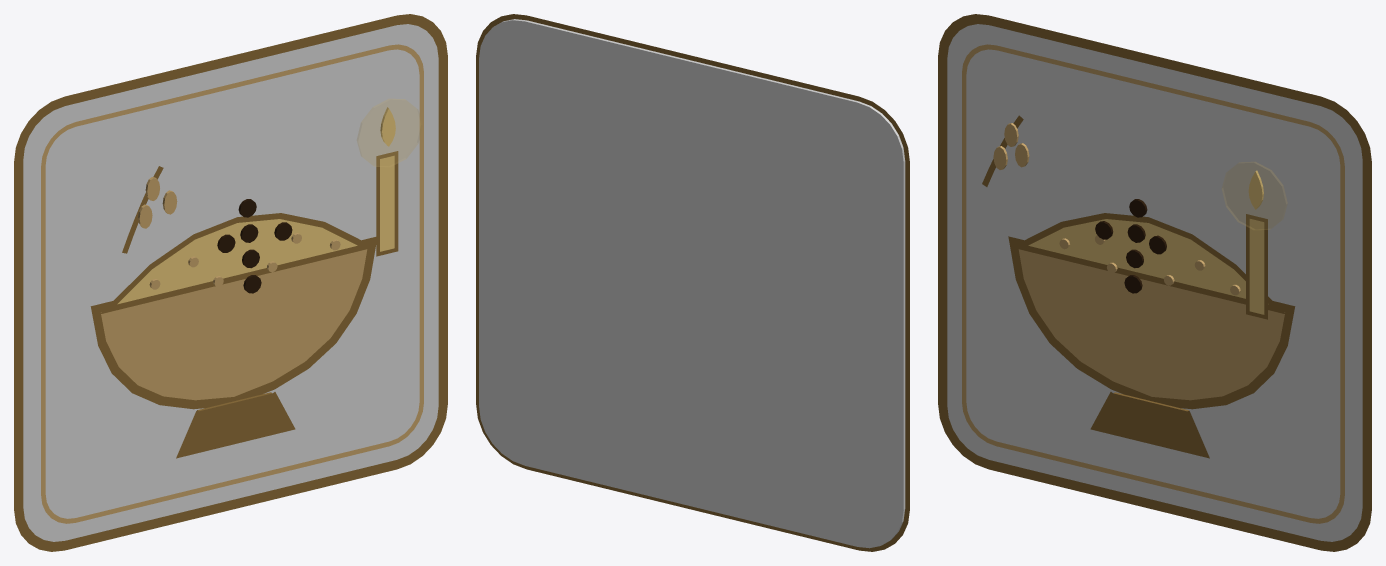
Rendered from obj-kutya.glb.
3 views of the same model, side by side, from view 1: azimuth 30°, elevation 25°; view 2: azimuth 150°, elevation 25°; view 3: azimuth 330°, elevation 25° (orthographic).
Parts seen in each view (by area): view 1: obj-kutya; view 2: obj-kutya; view 3: obj-kutya.
Boxes of the visible parts, x1,y1,x2,y2 form: obj-kutya: (14,14,447,551); obj-kutya: (476,14,909,551); obj-kutya: (938,14,1371,551).
Bounding box in the file's own units: 0.3917 × 0.3917 × 0.06.
